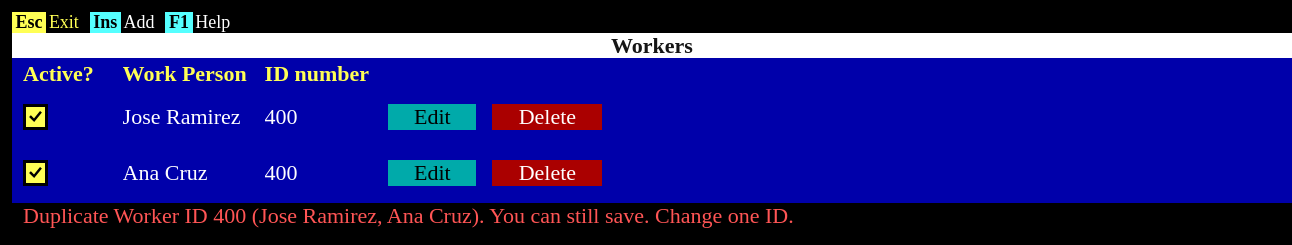
Test: WorkersScreen › warns when a Worker ID is already duplicated and still saves that person
This screenshot has width=1292, height=245.
expect the text "Duplicate Worker ID 400" shows "Jose Ramirez": met, box x1=23 y1=203 x2=794 y2=228
expect the text "Duplicate Worker ID 400" shows "Ana Cruz": met, box x1=23 y1=203 x2=794 y2=228
Click the button with aria-label "Edit Jose Ramirez". click: (432, 117)
box: x1=388 y1=104 x2=476 y2=130
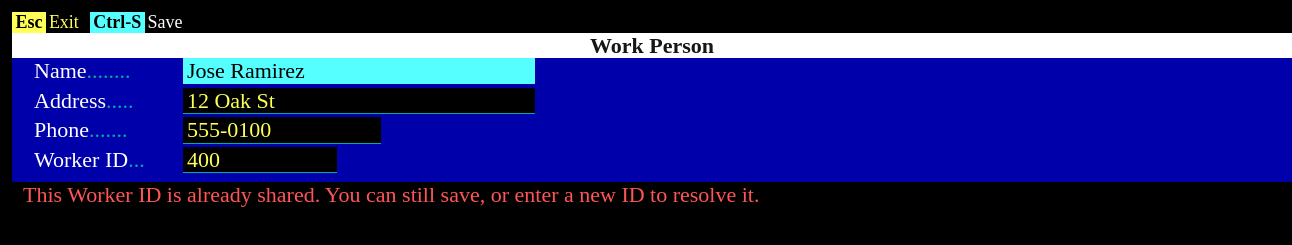
expect the text "already shared" is shown: met, box x1=23 y1=182 x2=760 y2=207
Replace the text in the field labelled "Address" with "44 Elm St". click: (358, 101)
box: x1=182 y1=88 x2=534 y2=114
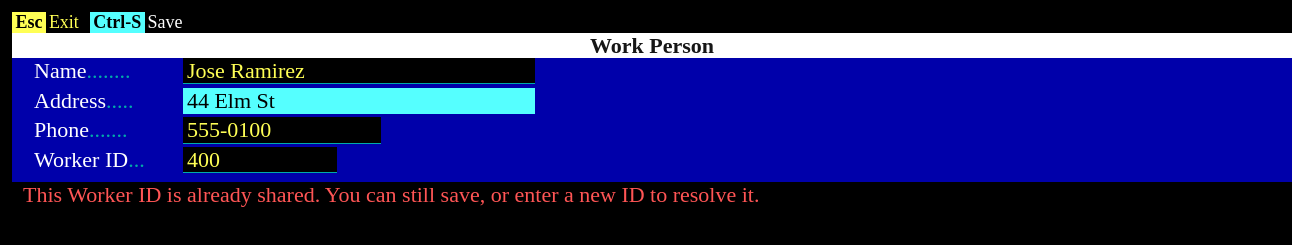
Click the button "Ctrl-S Save". click: (142, 22)
box: x1=90 y1=12 x2=193 y2=33
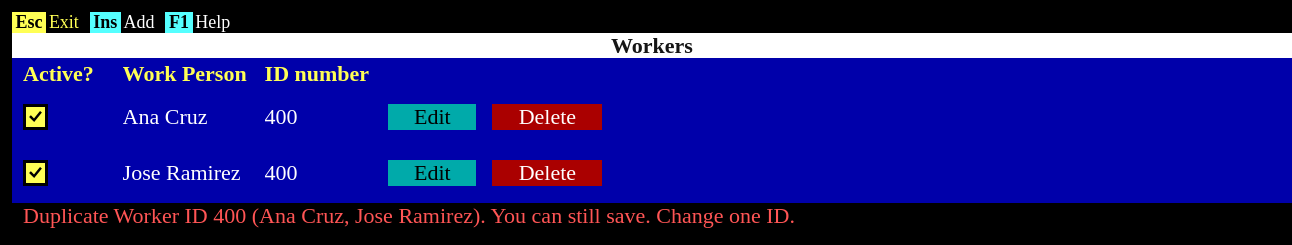
expect the text named "Worker name 1" reads "Ana Cruz": met, box x1=123 y1=104 x2=208 y2=129
expect the text "Duplicate Worker ID 400" is shown: met, box x1=23 y1=203 x2=795 y2=228
Click the button with aria-label "Edit Ana Cruz". click: (432, 117)
box: x1=388 y1=104 x2=476 y2=130
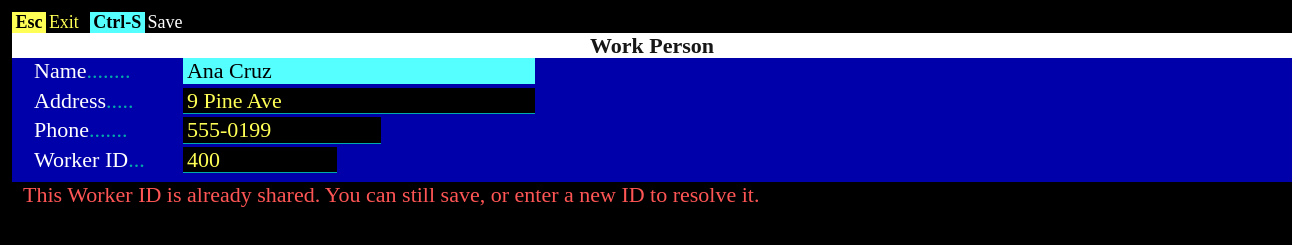
Replace the text in the field labelled "Worker ID" with "15". click: (260, 160)
box: x1=182 y1=147 x2=336 y2=173
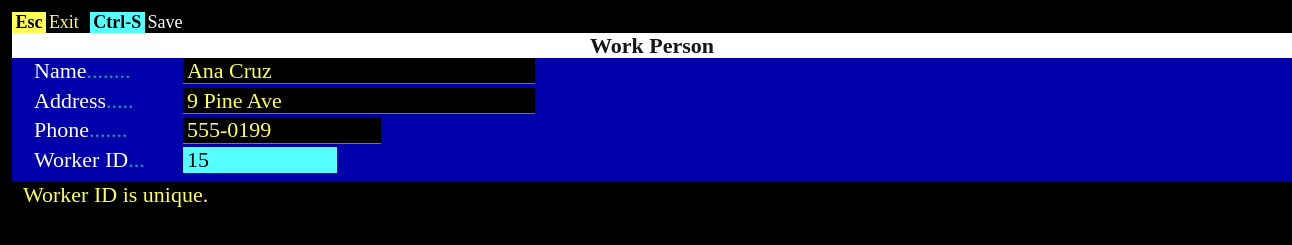
Click the button "Ctrl-S Save". click: (142, 22)
box: x1=90 y1=12 x2=193 y2=33
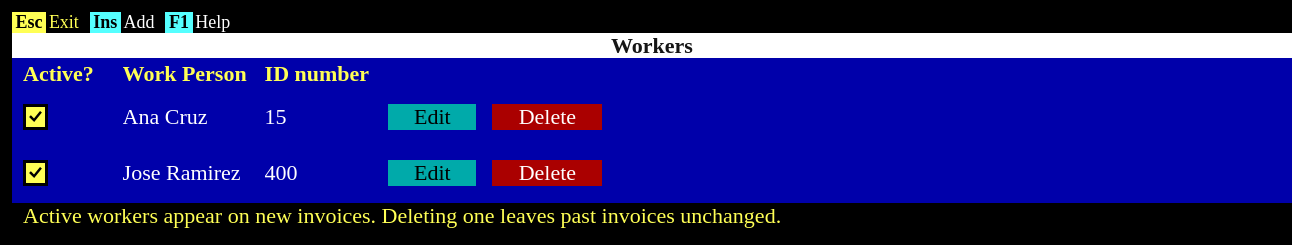
expect the text "Duplicate Worker ID" is not shown: met
expect the text named "Worker number 1" reads "15": met, box x1=265 y1=104 x2=287 y2=129
